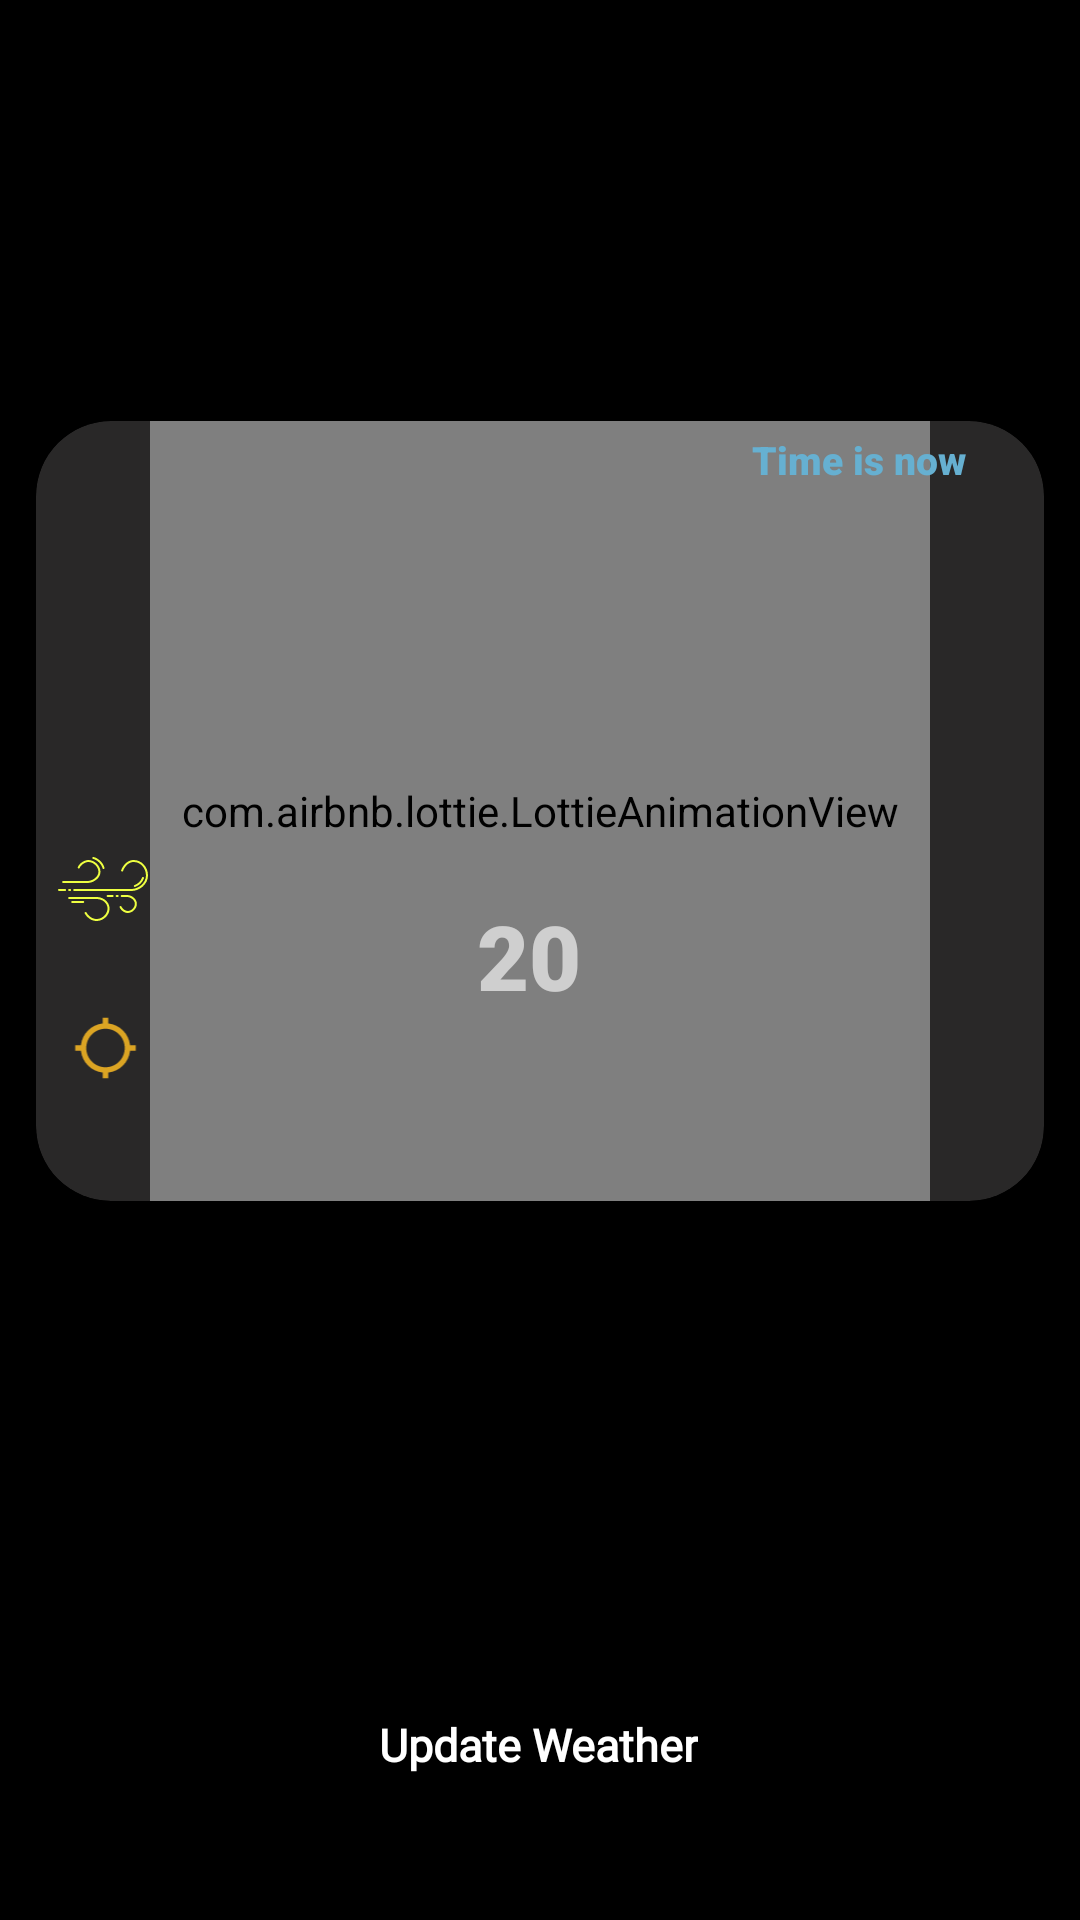

Locate icon controls on the screen. Image size 1080×1920, boxes as (x1, y1, x2, y2).
wind: (58, 857, 148, 921)
